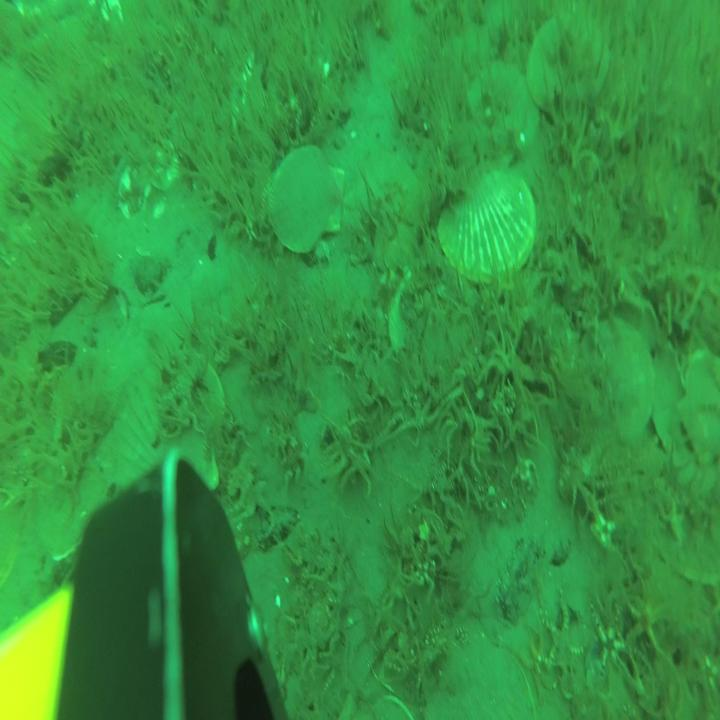scallop: (113, 355, 224, 505), (438, 164, 537, 280), (528, 11, 610, 114), (269, 146, 342, 251), (604, 315, 656, 440)
